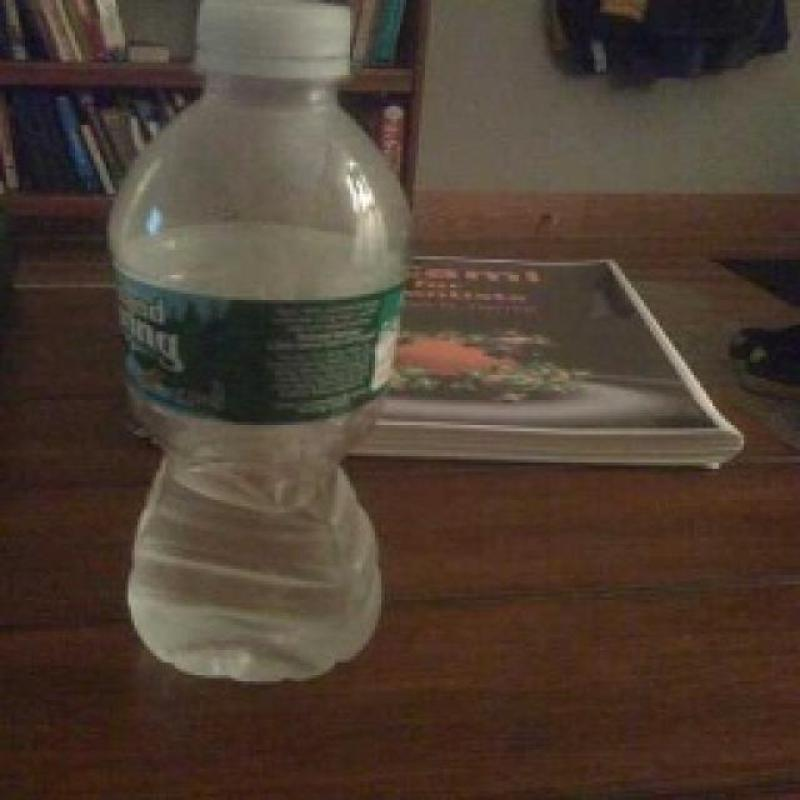botella: (105, 0, 417, 688)
